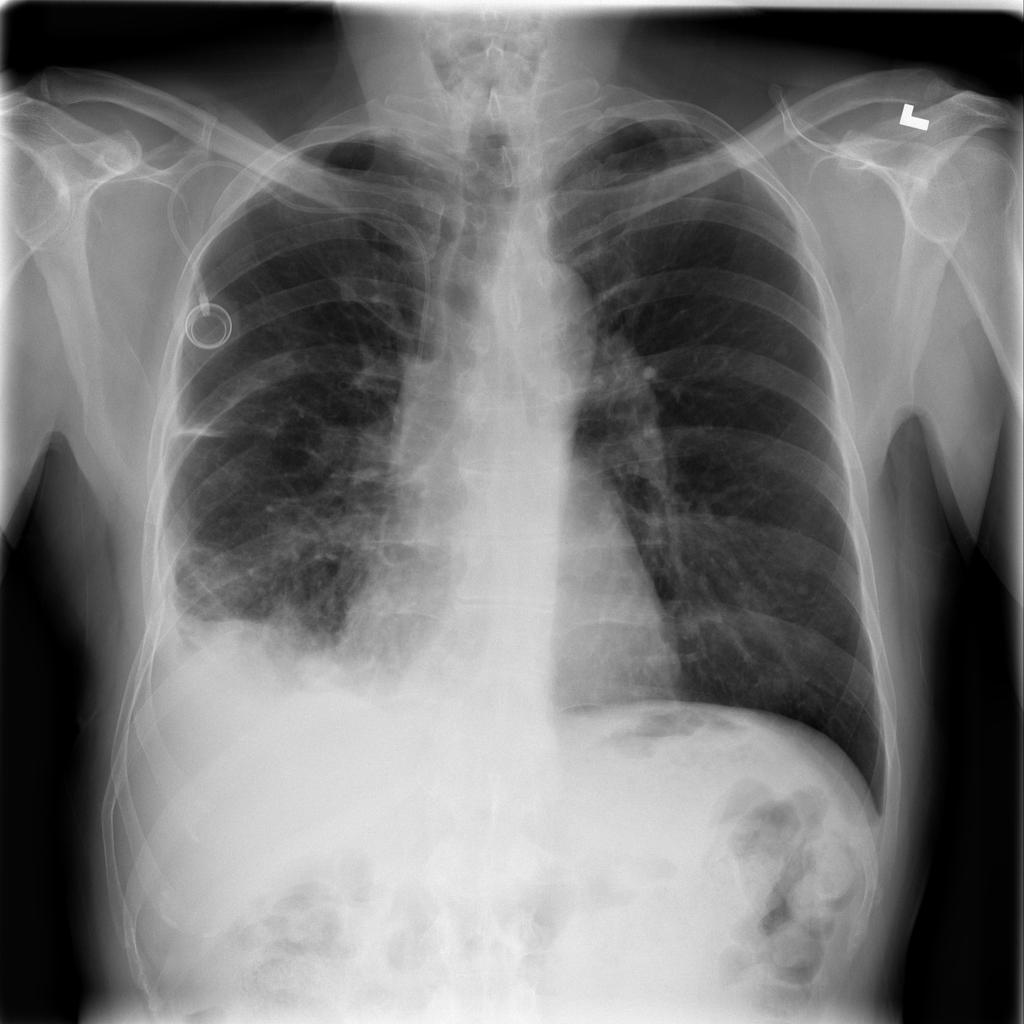nodule: (284, 635, 361, 706), (777, 564, 829, 614), (758, 324, 806, 377)
